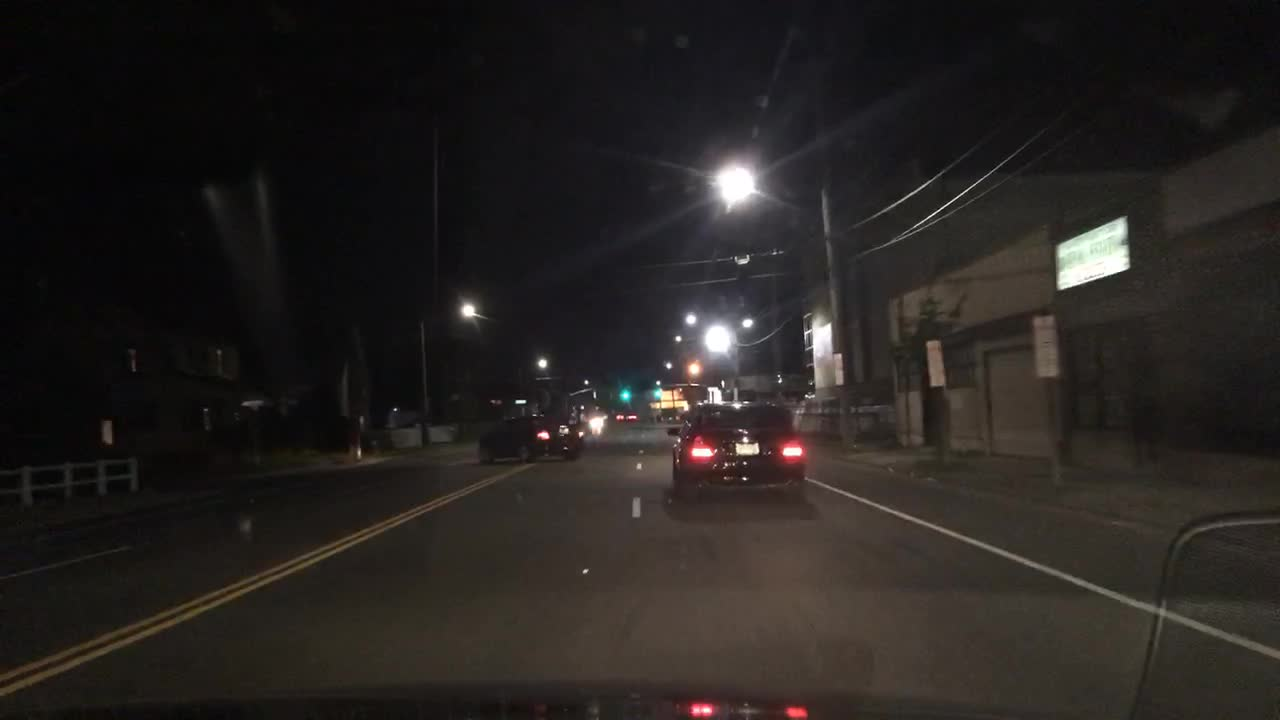car: (666, 399, 805, 497), (476, 408, 585, 459), (625, 413, 637, 422), (614, 412, 625, 421)
traffic light: (619, 387, 630, 403), (650, 389, 660, 400)
traffic sign: (1032, 313, 1060, 376), (924, 337, 947, 386), (833, 353, 845, 386)
